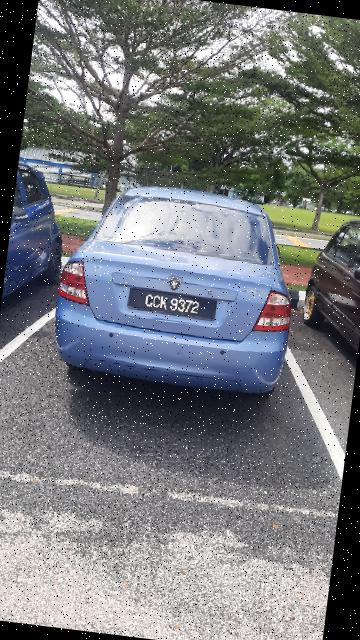License_Plate: (125, 282, 222, 322)
car: (50, 161, 314, 413)
